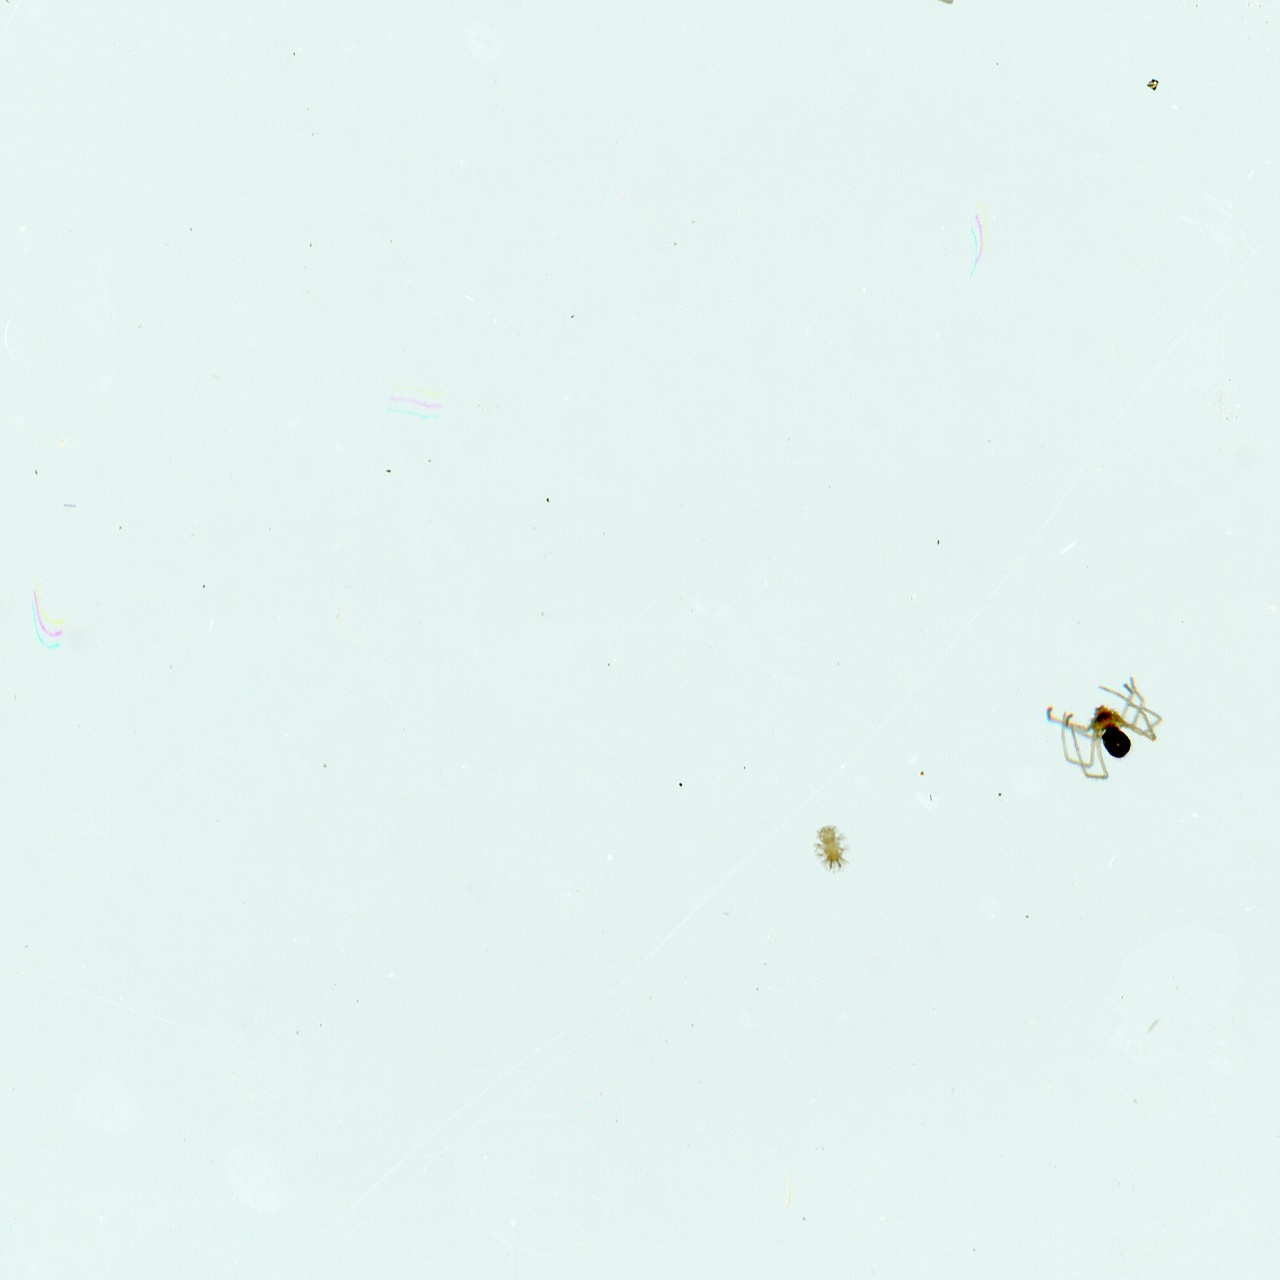arthropod: (1033, 654, 1179, 798), (809, 821, 855, 874)
